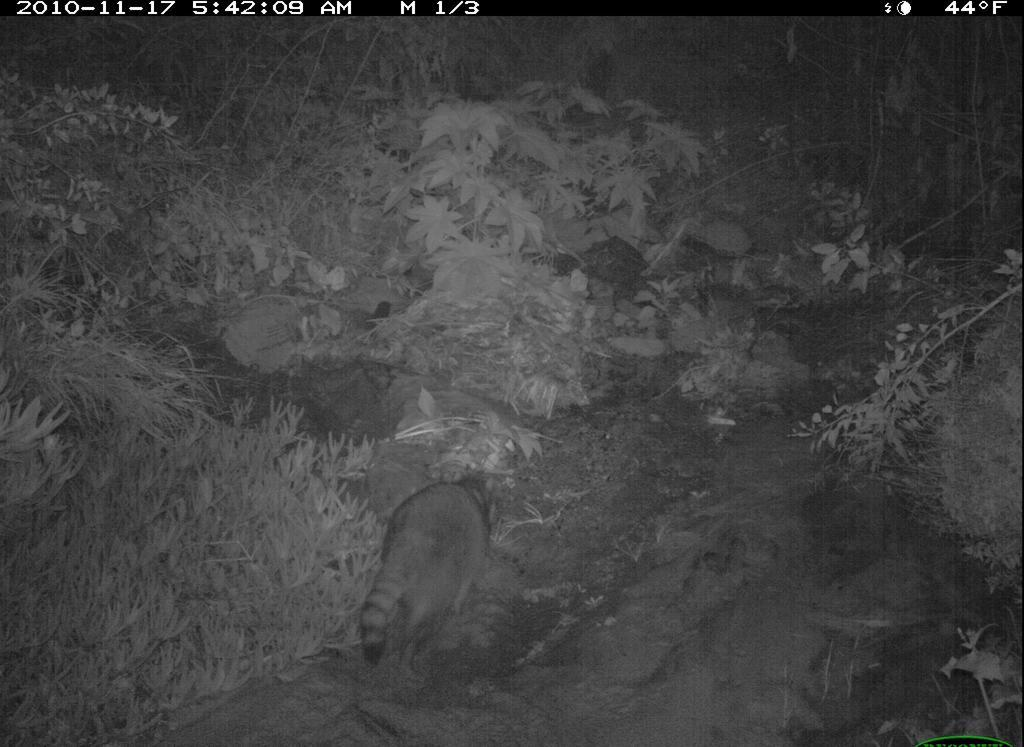raccoon: (344, 461, 520, 698)
